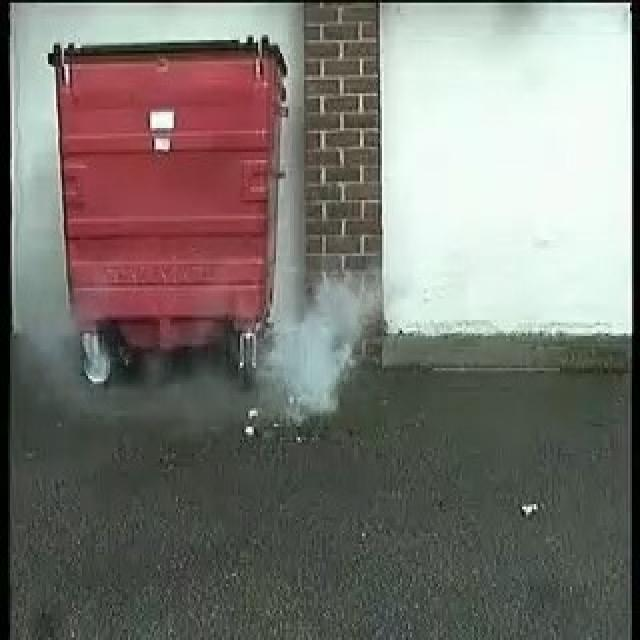smoke: (267, 292, 362, 428)
